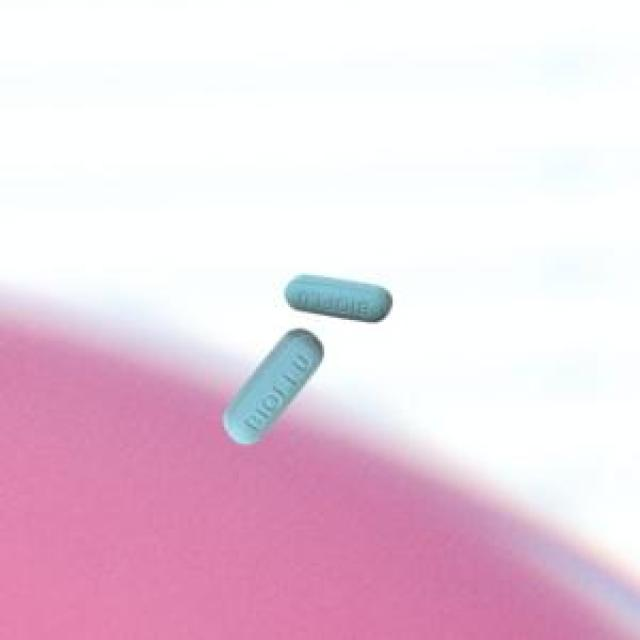Bioflu: (215, 326, 337, 455), (277, 258, 408, 328)
